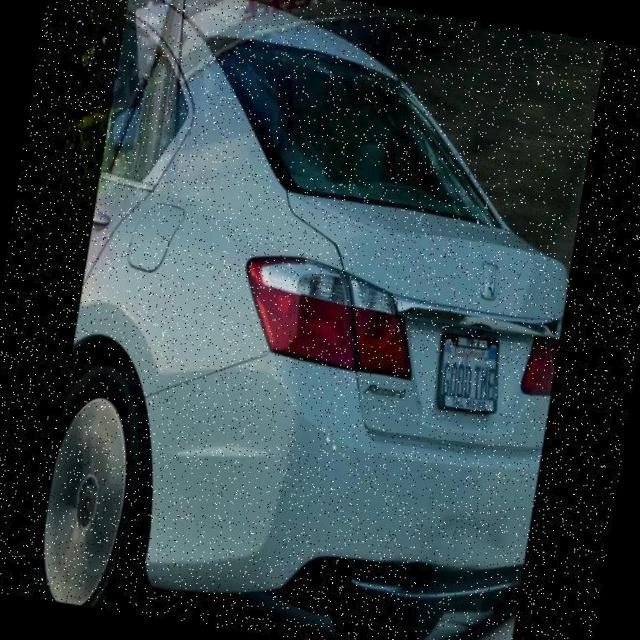LicensePlate: (438, 334, 498, 411)
